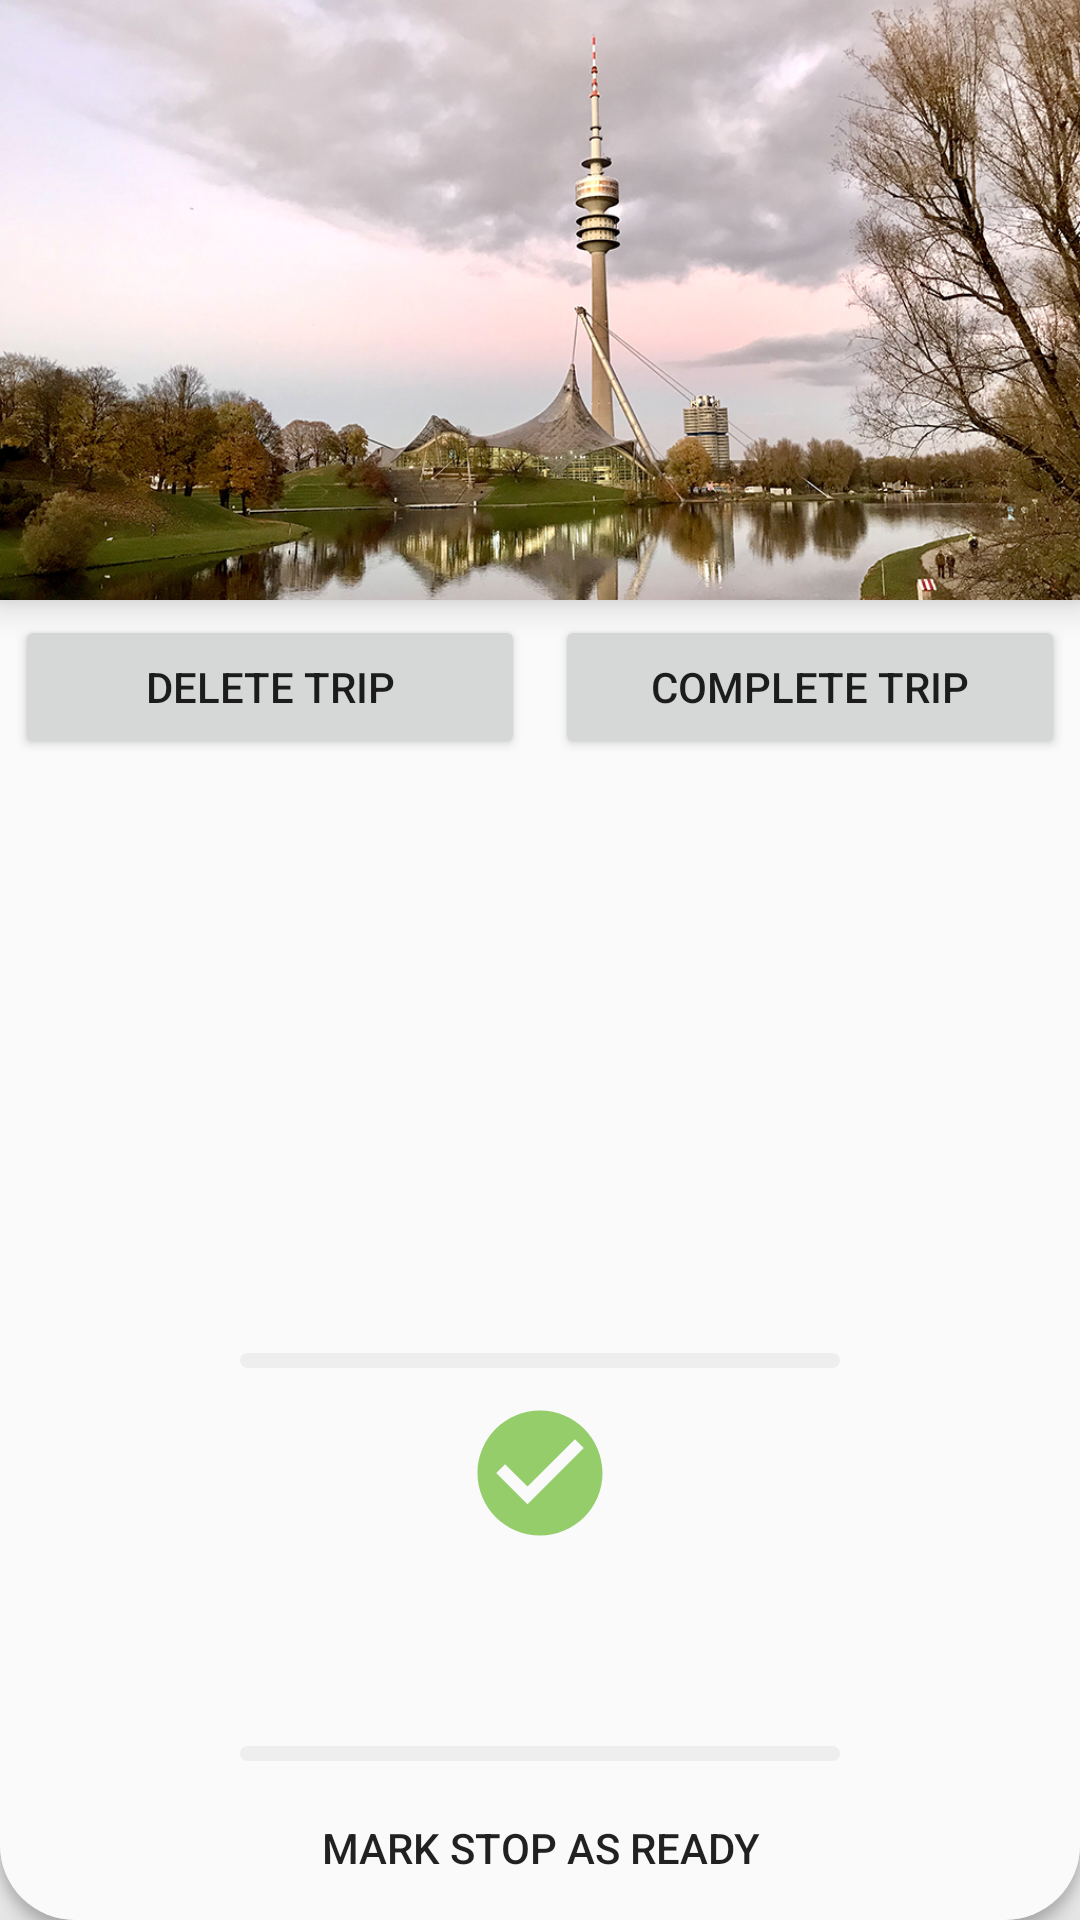

Locate icon controls on the screen. Image size 1080px x 1920px, boxes as Rect(x1, y1, x2, y2).
check circle: Rect(477, 1410, 603, 1536)
